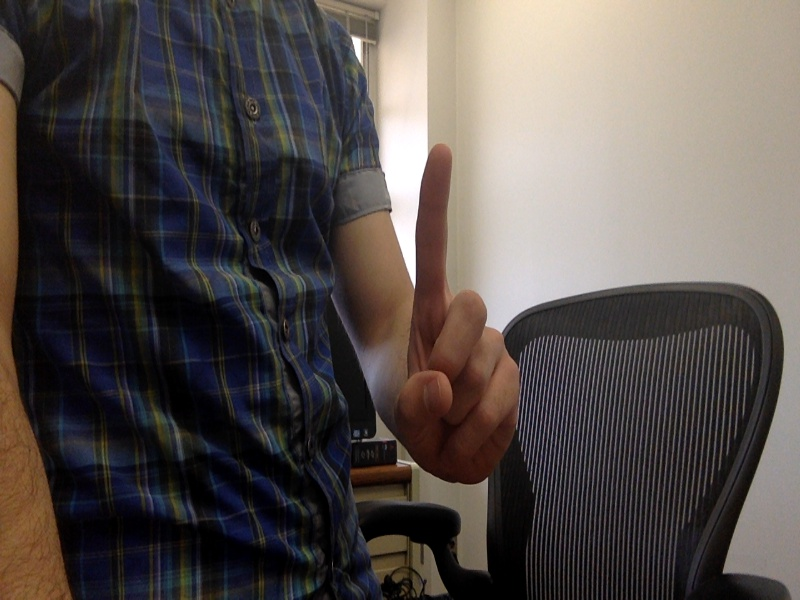1-hand: (396, 144, 525, 484)
